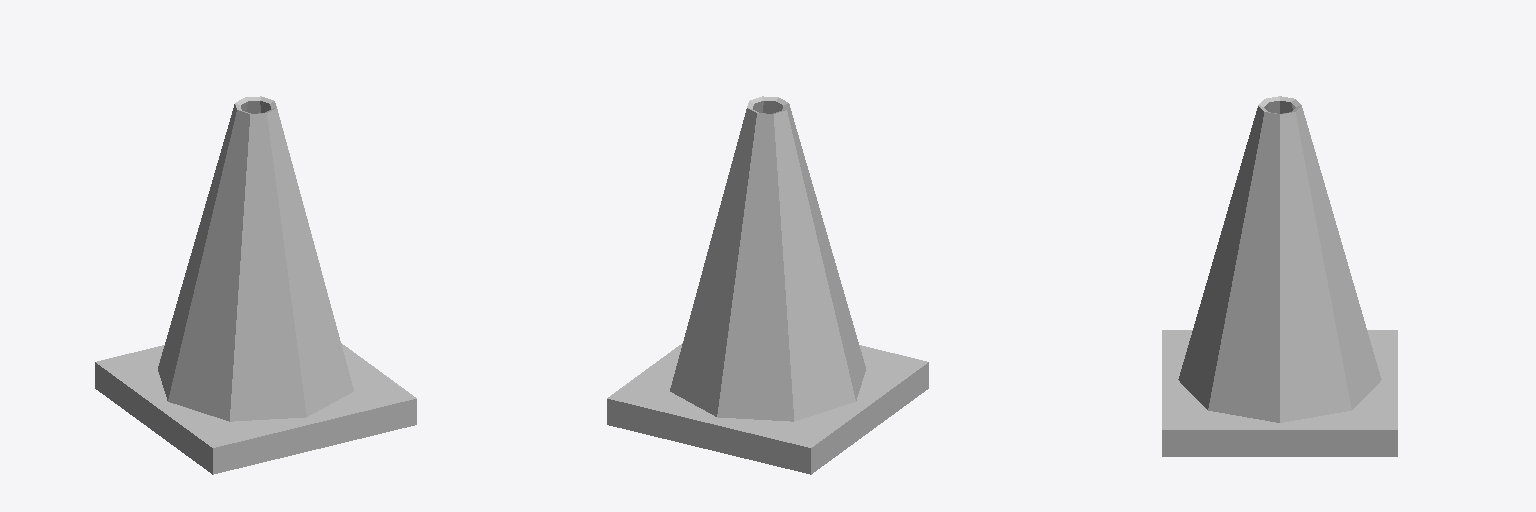
The model's file is RoadCone.obj.
3 views of the same model, side by side, from view 1: azimuth 30°, elevation 25°; view 2: azimuth 150°, elevation 25°; view 3: azimuth 270°, elevation 25° (orthographic).
Parts seen in each view (by area): view 1: RoadBlock:Cone; view 2: RoadBlock:Cone; view 3: RoadBlock:Cone.
Boxes of the visible parts, x1=… form: RoadBlock:Cone: x1=95, y1=96, x2=416, y2=474; RoadBlock:Cone: x1=607, y1=96, x2=928, y2=474; RoadBlock:Cone: x1=1162, y1=96, x2=1397, y2=456.
Bounding box in the file's own units: 9.15 × 12.9 × 9.15.